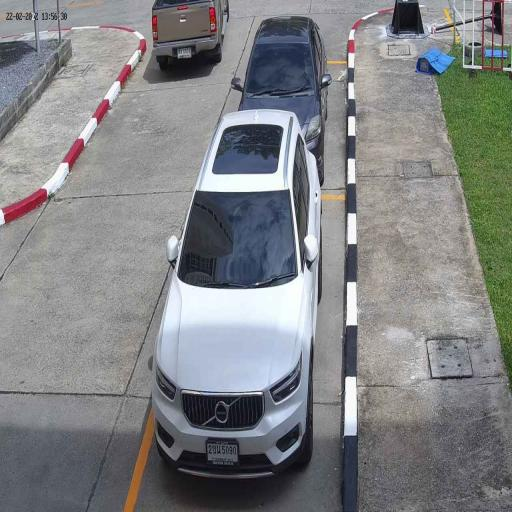car: (151, 109, 322, 483), (232, 14, 332, 182), (151, 0, 230, 70)
